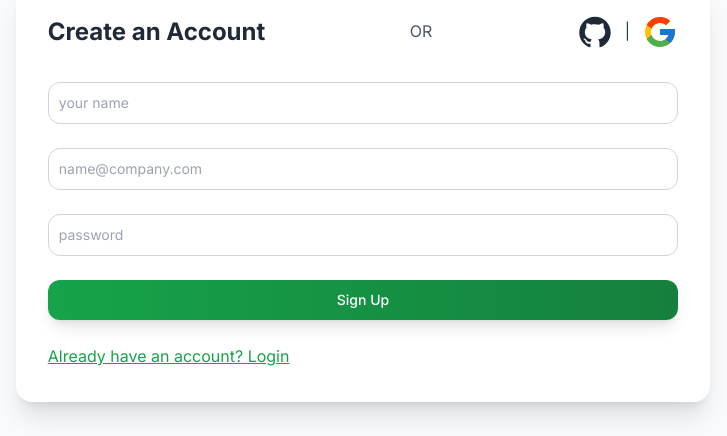
Test: Authentication Components › AuthForms Component › should render login form when login tab is clicked
Click the button "Already have an account? Login". click: click(169, 357)
box: x1=48 y1=344 x2=289 y2=370
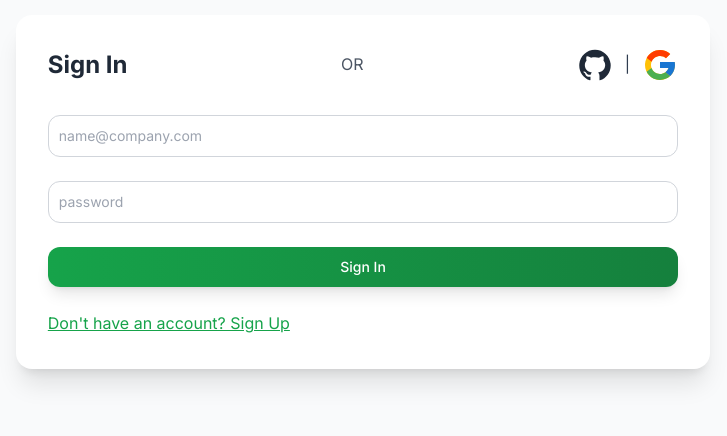
Expected: the field with placeholder "name@company.com" is shown, x1=48 y1=115 x2=678 y2=157
Now the heading "Sign In" is shown, box x1=48 y1=49 x2=128 y2=81
Now the button "Sign In" is shown, box x1=48 y1=247 x2=678 y2=287
